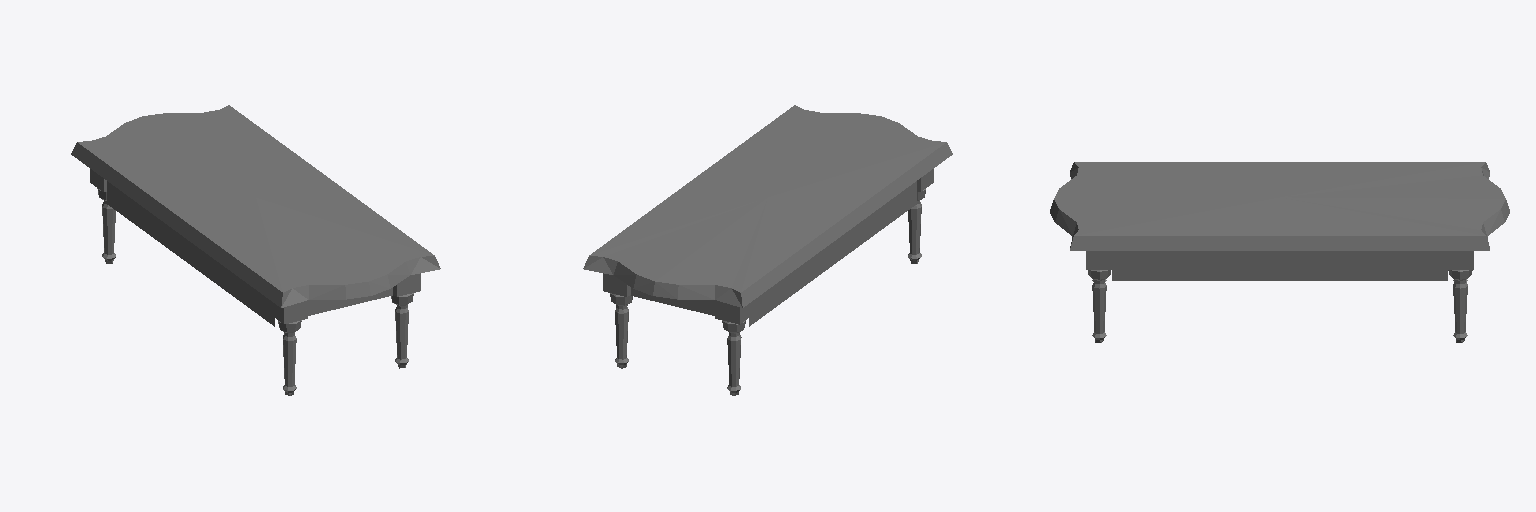
File: table.obj
3 views of the same model, side by side, from view 1: azimuth 30°, elevation 25°; view 2: azimuth 150°, elevation 25°; view 3: azimuth 270°, elevation 25° (orthographic).
Parts seen in each view (by area): view 1: s4studio_mesh_2_s4studio_mesh_2_DIFFUSE.002; view 2: s4studio_mesh_2_s4studio_mesh_2_DIFFUSE.002; view 3: s4studio_mesh_2_s4studio_mesh_2_DIFFUSE.002.
Part boxes in pixels (left/top/right/bottom): s4studio_mesh_2_s4studio_mesh_2_DIFFUSE.002: left=71, top=105, right=440, bottom=395; s4studio_mesh_2_s4studio_mesh_2_DIFFUSE.002: left=583, top=105, right=952, bottom=395; s4studio_mesh_2_s4studio_mesh_2_DIFFUSE.002: left=1050, top=162, right=1509, bottom=342.
Bounding box in the file's own units: 0.7086 × 0.4952 × 1.77.